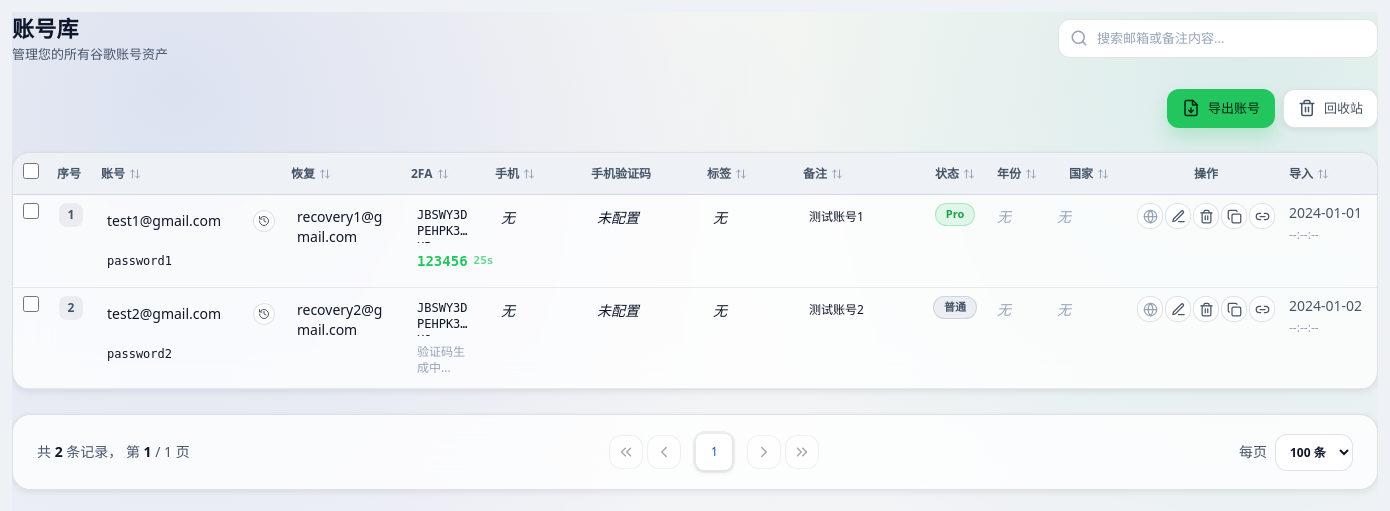
Test case: AccountListView 组件 › 操作按钮 › 双击2FA验证码进入编辑时不触发复制
Double-click the text "123456" at (442,261), box [417,251,468,271]
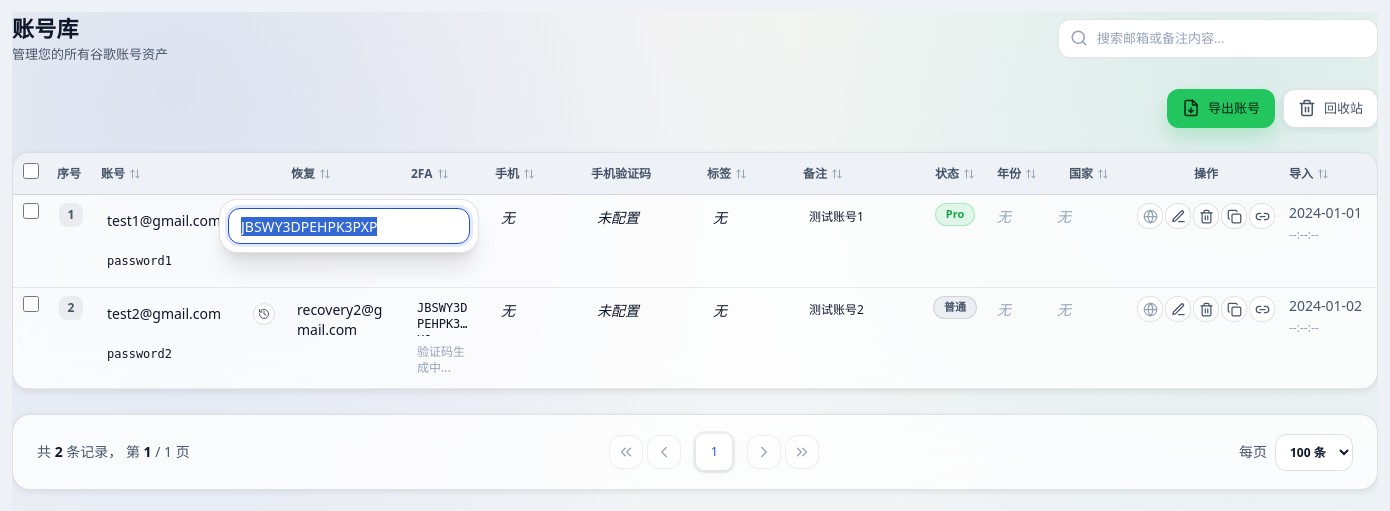
expect the field with placeholder "输入 2FA 密钥" is shown: met, box [228,208,470,244]
